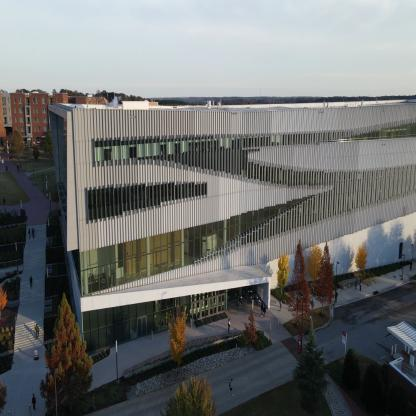Hunt Library: (32, 86, 416, 370)
